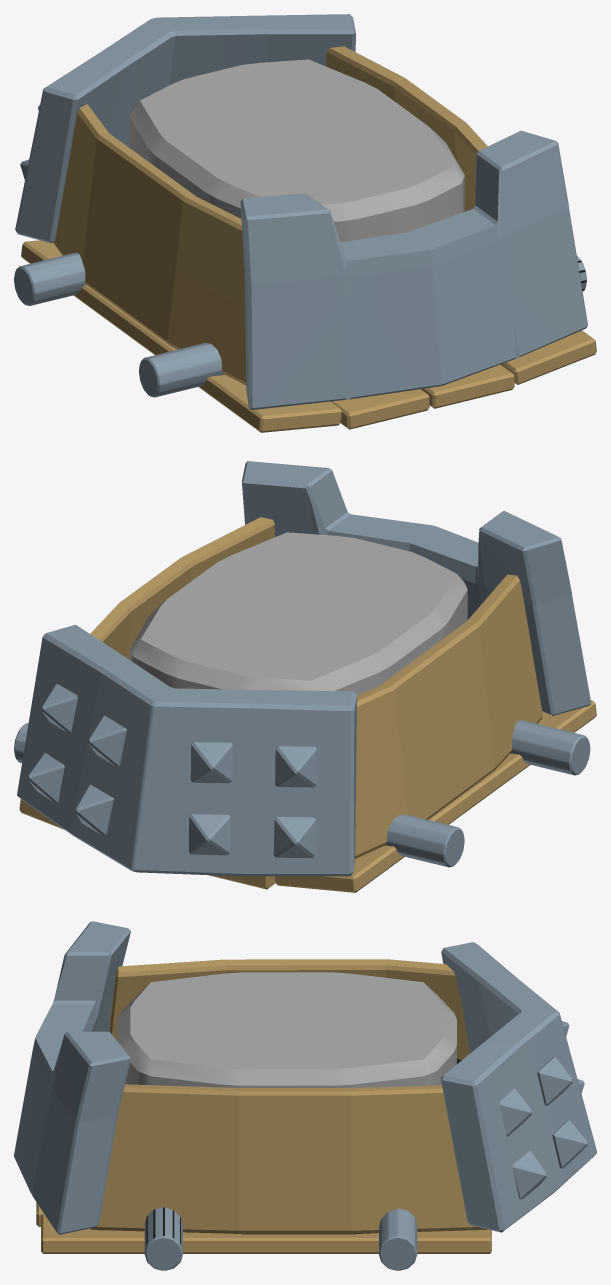
Rendered from Sparky Base.fbx.
3 views of the same model, one above another, from view 1: azimuth 30°, elevation 25°; view 2: azimuth 150°, elevation 25°; view 3: azimuth 270°, elevation 25° (orthographic). The views are drawn at different scales.
Parts seen in each view (by area): view 1: polySurface9; view 2: polySurface9; view 3: polySurface9.
Boxes of the visible parts, x1,y1,x2,y2 form: polySurface9: (14,14,596,432); polySurface9: (14,461,596,892); polySurface9: (14,921,596,1270).
Size of the model in its own units: 259 by 121 by 325.
